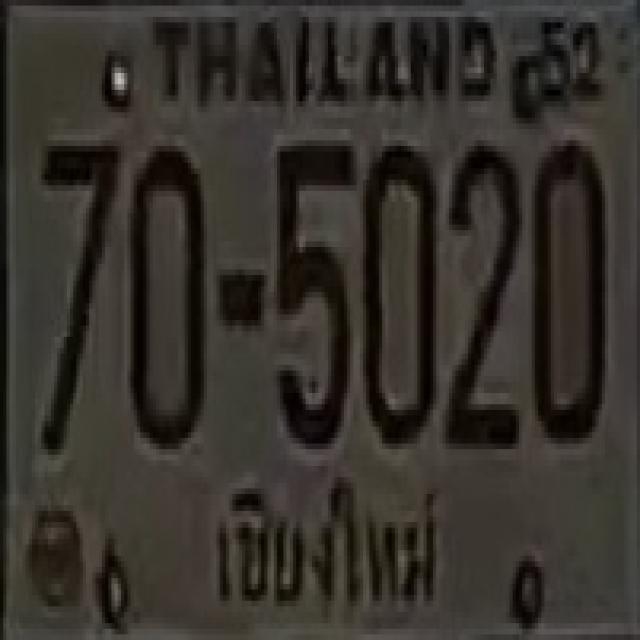0: (127, 140, 204, 444), (528, 135, 602, 438), (360, 140, 433, 438)
2: (443, 140, 519, 444)
5: (274, 134, 350, 443)
7: (38, 135, 118, 449), (40, 137, 116, 396)
CMI: (204, 466, 455, 634)
